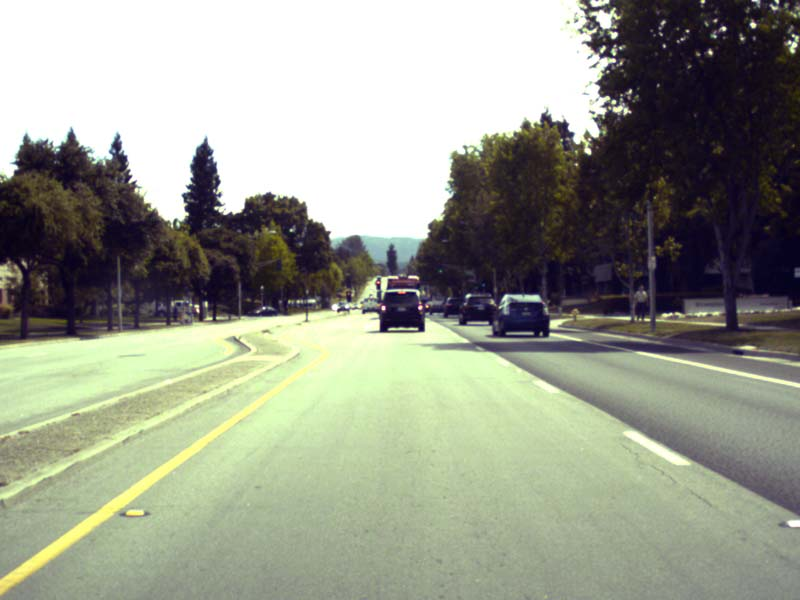Green: (439, 264, 442, 272), (474, 283, 477, 289)
Red: (347, 292, 350, 300), (377, 281, 379, 289)
